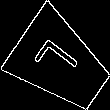L_SE: (33, 36, 88, 91)
